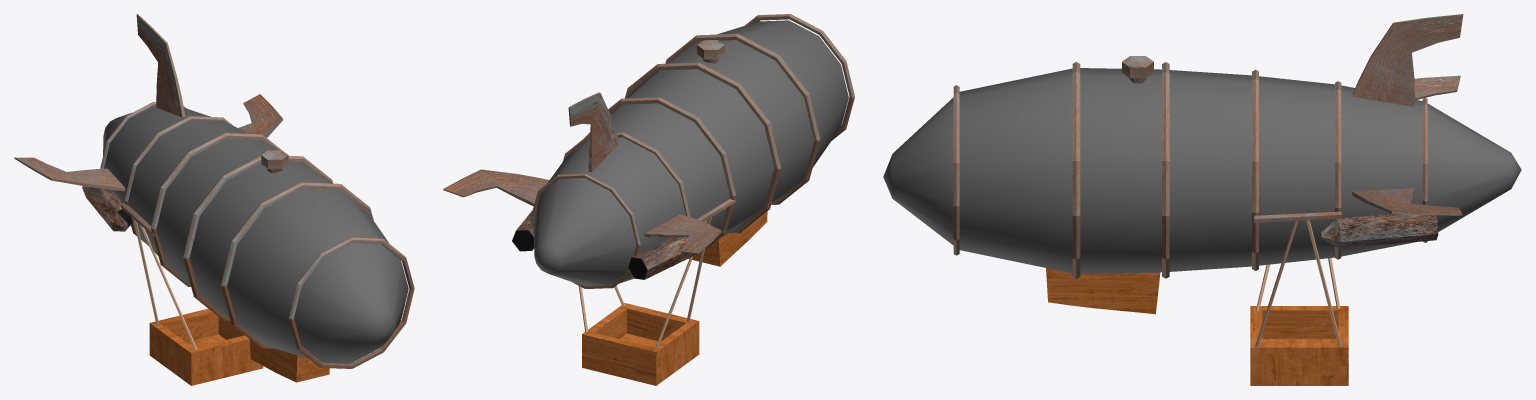
Rendered from zeppelin.fbx.
3 views of the same model, side by side, from view 1: azimuth 30°, elevation 25°; view 2: azimuth 150°, elevation 25°; view 3: azimuth 270°, elevation 25° (orthographic). The views are drawn at different scales.
Visible parts, largest first — view 1: Body, Cube, Torus.001, Cube.001, Torus, Torus.002, Cube.002, Cube.003, Torus.003, Antireb, Cube.004, Torus.004 (+4 smaller); view 2: Body, Cube, Torus.002, Cube.001, Cube.004, Torus, Cube.003, Antireb, Torus.003, Cube.002, Torus.005, Torus.001 (+4 smaller); view 3: Body, Cube, Cube.001, Cube.002, Antireb.001, Torus, Torus.002, Cube.004, Torus.003, Torus.001, Torus.004, Cube.003 (+5 smaller).
Boxes of the visible parts, x1,y1,x2,y2 form: Body: (103,105,408,363); Cube: (149,308,263,385); Torus.001: (289,237,414,368); Cube.001: (136,14,185,117); Torus: (221,182,373,348); Torus.002: (183,155,333,320); Cube.002: (250,340,329,382); Cube.003: (14,157,125,191); Torus.003: (151,133,283,286); Antireb: (82,186,132,231); Cube.004: (238,94,282,137); Torus.004: (124,116,233,243); Body: (533,20,848,286); Cube: (582,303,699,385); Torus.002: (625,62,780,233); Cube.001: (568,92,618,172); Cube.004: (443,169,549,206); Torus: (665,33,820,204); Cube.003: (644,214,721,254); Antireb: (628,237,700,279); Torus.003: (608,97,735,255); Cube.002: (688,211,767,266); Torus.005: (530,173,640,288); Torus.001: (745,14,854,140); Body: (883,68,1521,273); Cube: (1250,306,1348,385); Cube.001: (1352,14,1463,107); Cube.002: (1046,268,1160,314); Antireb.001: (1320,213,1438,248); Torus: (1072,62,1080,278); Torus.002: (1162,62,1169,278); Cube.004: (1352,188,1462,215); Torus.003: (1252,69,1258,270); Torus.001: (953,85,959,255); Torus.004: (1335,81,1341,259); Cube.003: (1414,75,1460,99).
Size of the model in its own units: 176 by 202 by 333.
7 materials, 5 textured.
